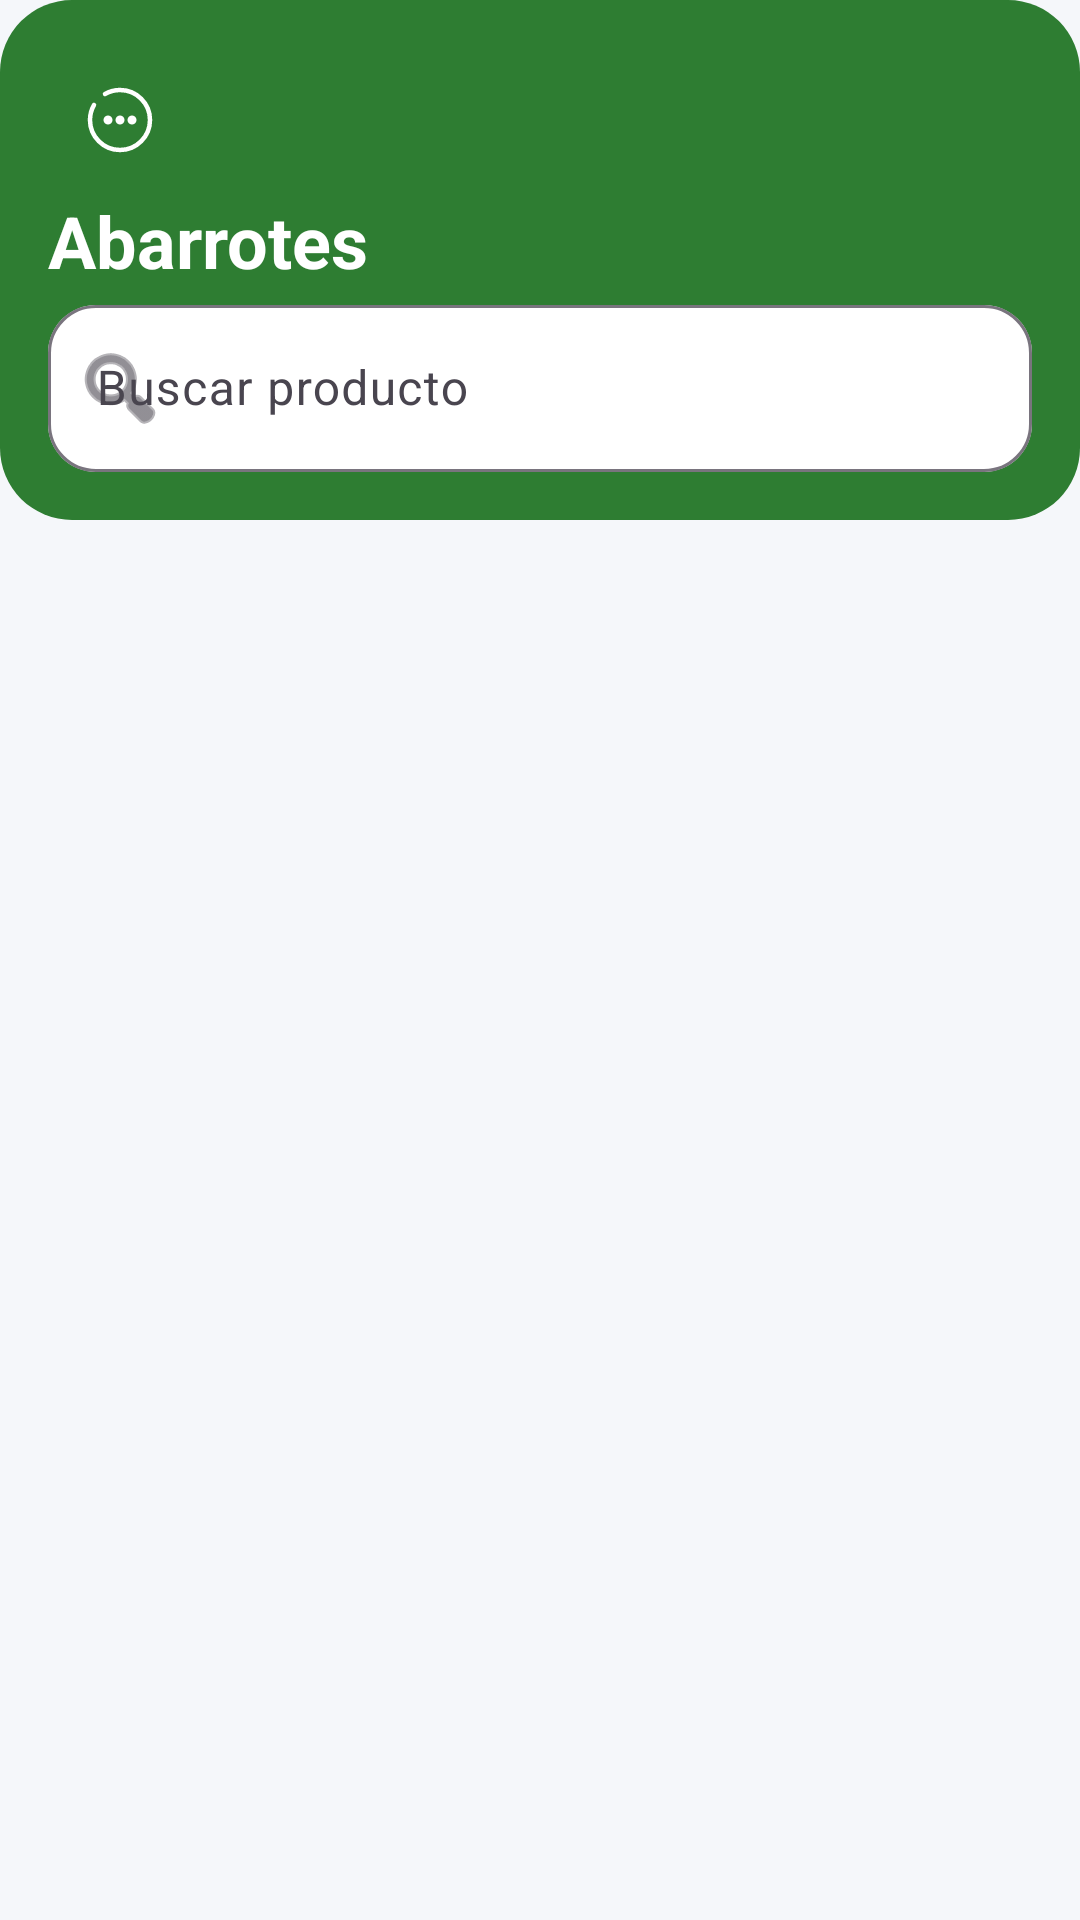

Icon click points for this 1080×1920 phone screenshot, format [x,y]:
menu: [120,120]
